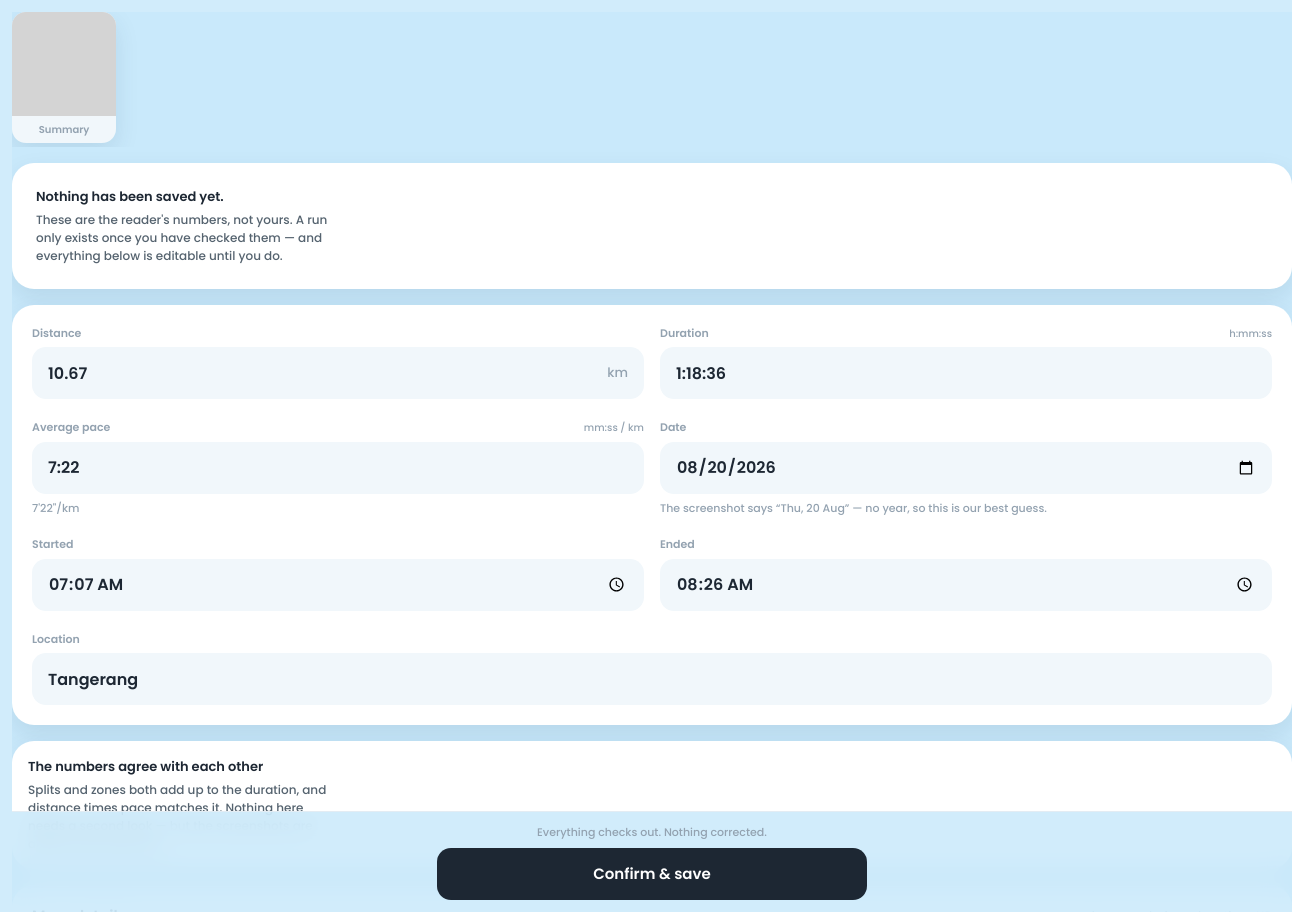
Test: ReviewScreen — a keystroke re-runs the checks › a second keystroke back to the fixture’s own value clears everything again
The width and height of the screenshot is (1292, 912).
Type "802" into the field named "Average pace, minutes and seconds per kilometre" at x=338, y=468, box [32, 442, 644, 494]
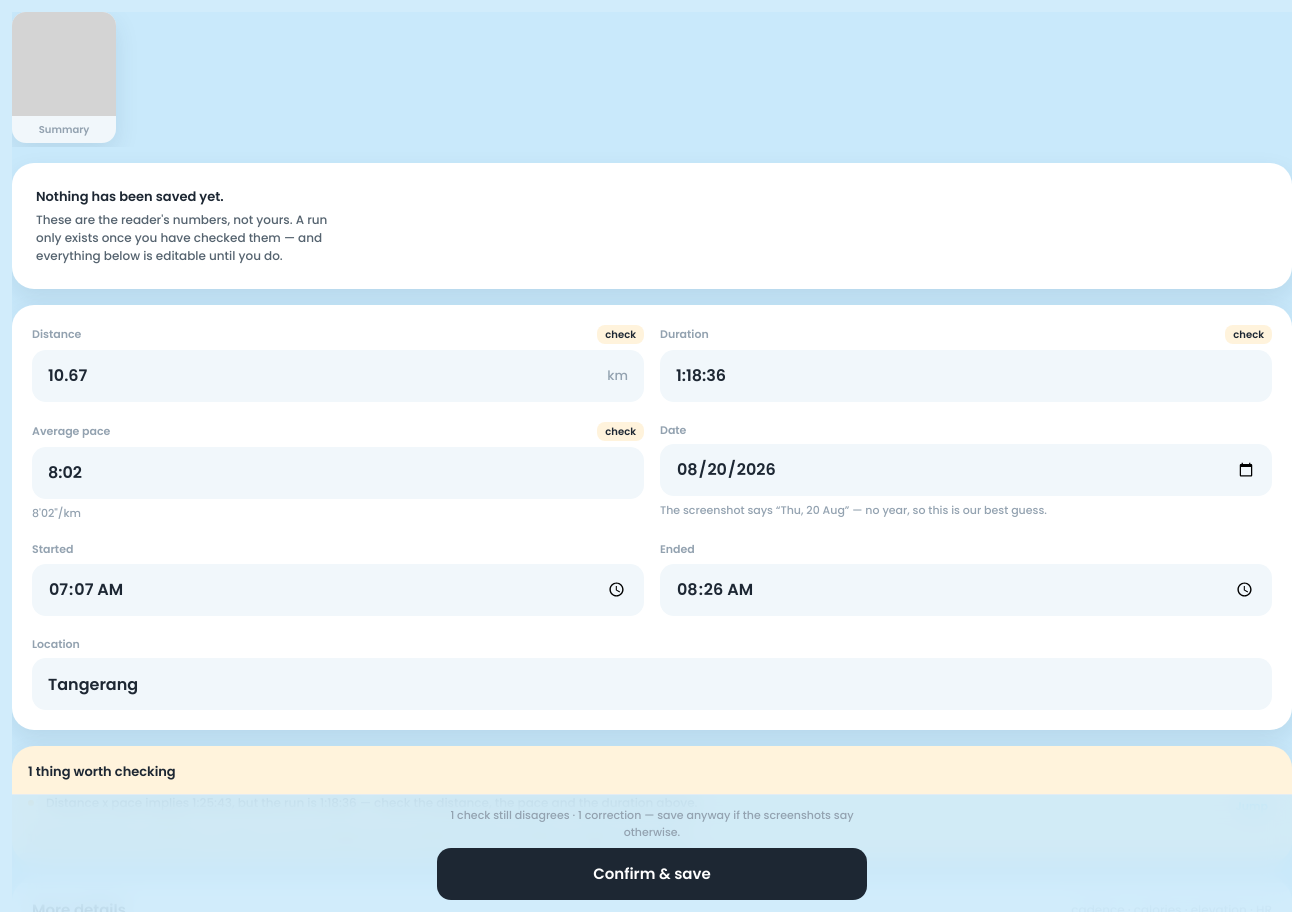
Expected: the message is shown, [12, 746, 1291, 862]
Replace the text in the field named "Average pace, minutes and seconds per kilometre" with "722" at x=338, y=472, box [32, 446, 644, 498]
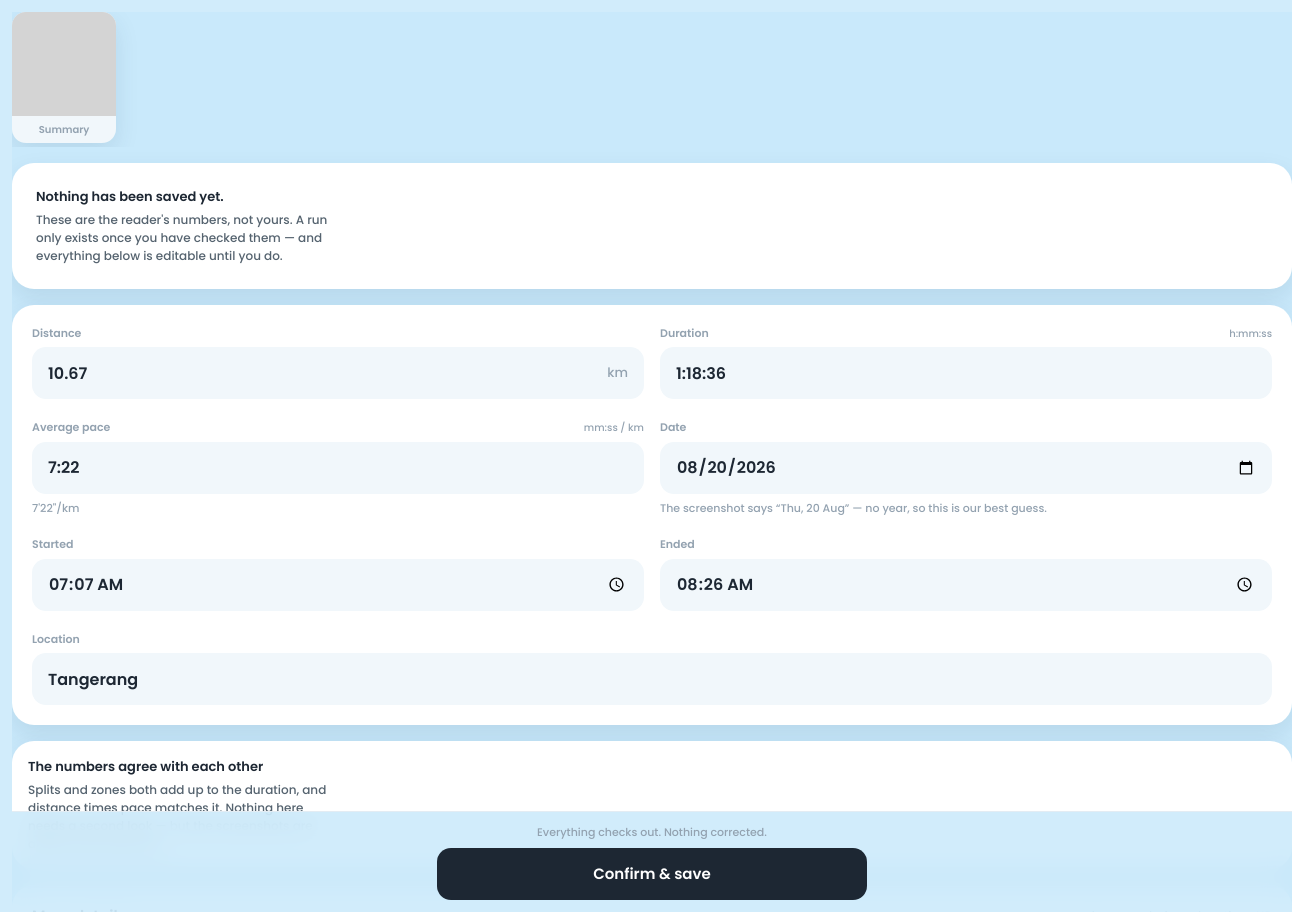
Expected: the message shows "The numbers agree with each other", [28, 757, 263, 776]
Expected: the text "Everything checks out. Nothing corrected." is shown, [537, 824, 767, 840]
